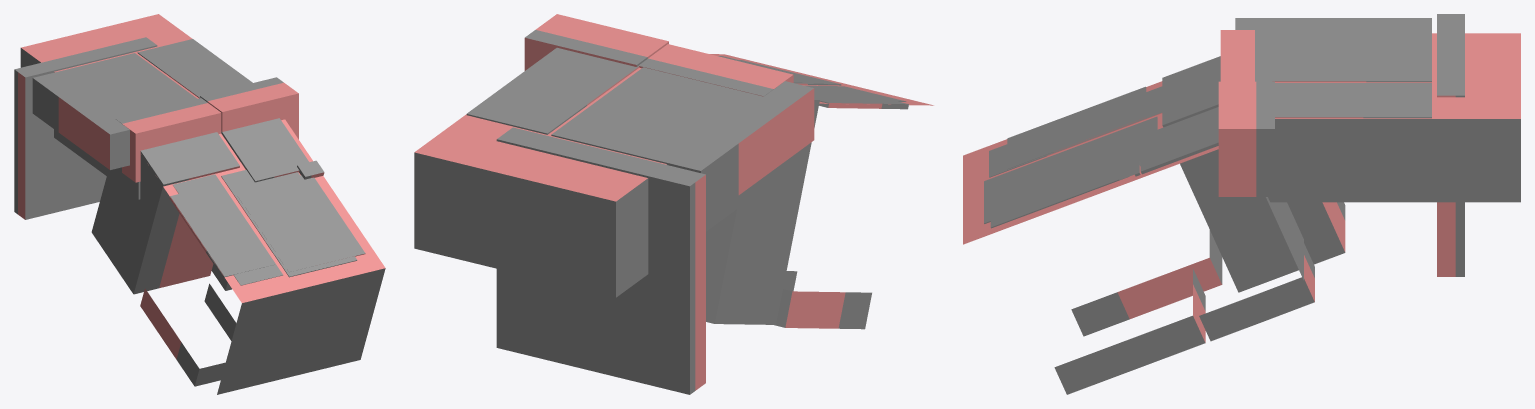
The model's file is S_Envi_Train_Building_Merge_03.gltf.
3 views of the same model, side by side, from view 1: azimuth 30°, elevation 25°; view 2: azimuth 150°, elevation 25°; view 3: azimuth 270°, elevation 25° (orthographic). The views are drawn at different scales.
Visible parts, largest first — view 1: S_Envi_Train_Building_Merge_03; view 2: S_Envi_Train_Building_Merge_03; view 3: S_Envi_Train_Building_Merge_03.
Boxes of the visible parts, bbox=[...] form: S_Envi_Train_Building_Merge_03: bbox=[14, 14, 385, 394]; S_Envi_Train_Building_Merge_03: bbox=[414, 14, 933, 394]; S_Envi_Train_Building_Merge_03: bbox=[963, 14, 1520, 394].
Size of the model in its own units: 11.02 by 12.38 by 22.33.
